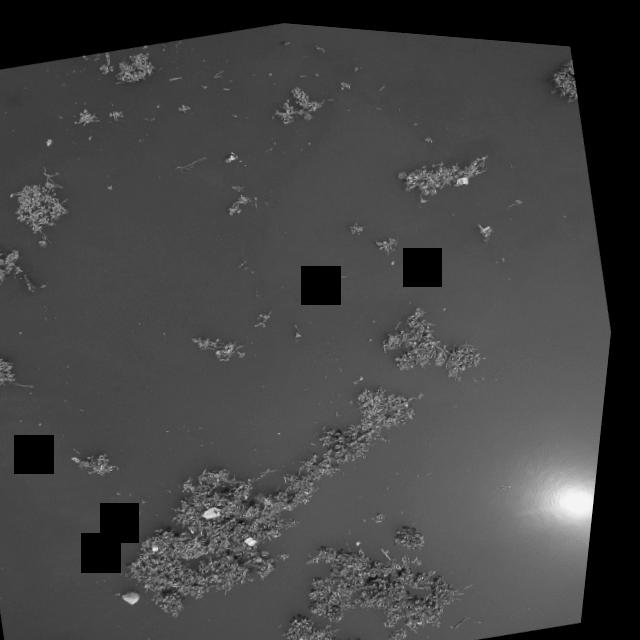plastic: (447, 159, 484, 184), (207, 495, 235, 522), (245, 526, 274, 549), (130, 583, 159, 605), (154, 537, 175, 555), (361, 530, 376, 542)
